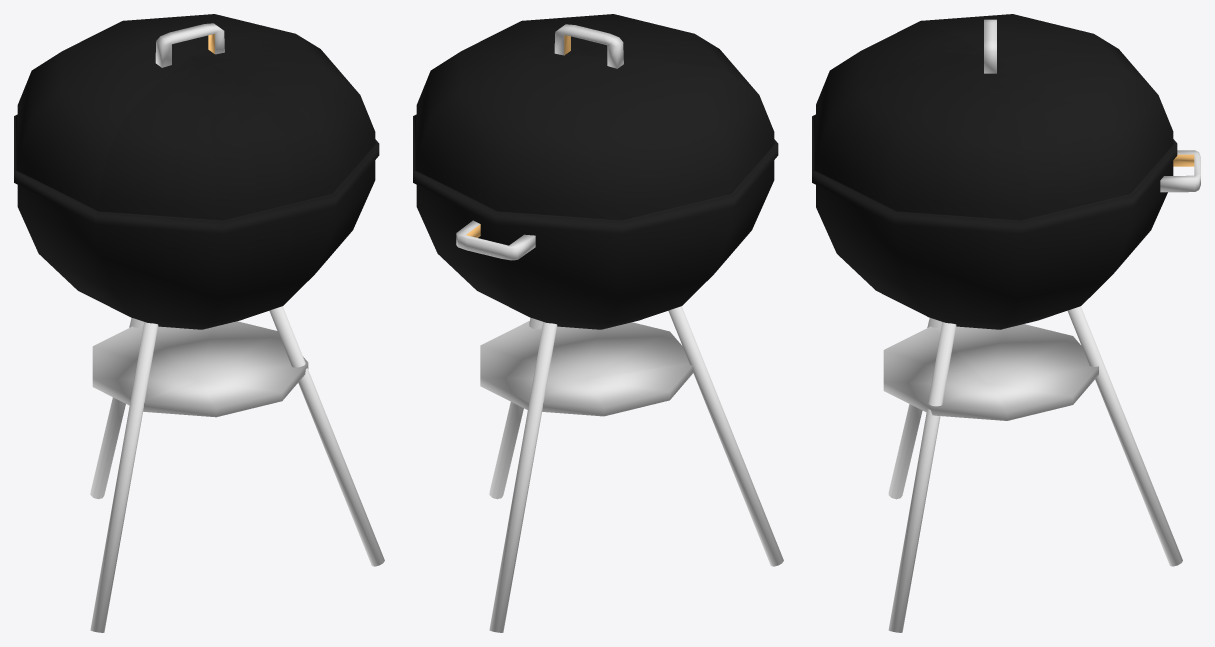
The model's file is PortableBarbecueGrill.glb.
The picture shows the model from 3 angles, left to right: view 1: azimuth 30°, elevation 25°; view 2: azimuth 150°, elevation 25°; view 3: azimuth 270°, elevation 25°; orthographic projection.
Visible parts, largest first — view 1: PortableBarbecueGrill; view 2: PortableBarbecueGrill; view 3: PortableBarbecueGrill.
Part boxes in pixels (x1,y1,x2,y2): PortableBarbecueGrill: (14,14,384,632); PortableBarbecueGrill: (413,14,783,632); PortableBarbecueGrill: (812,14,1200,632).
Bounding box in the file's own units: 0.7781 × 1.24 × 0.8156.
1 material, 1 textured.
